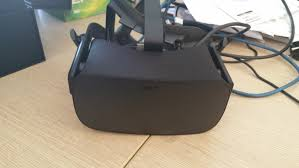oculus: (66, 15, 237, 139)
